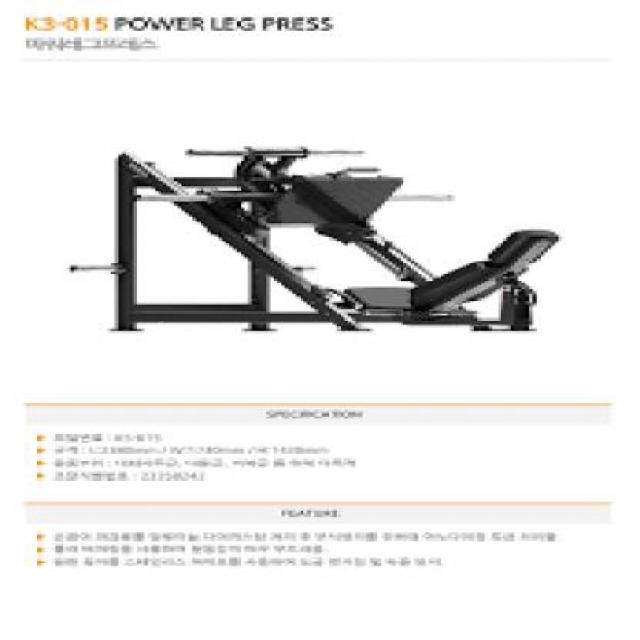leg press: (51, 120, 584, 355)
